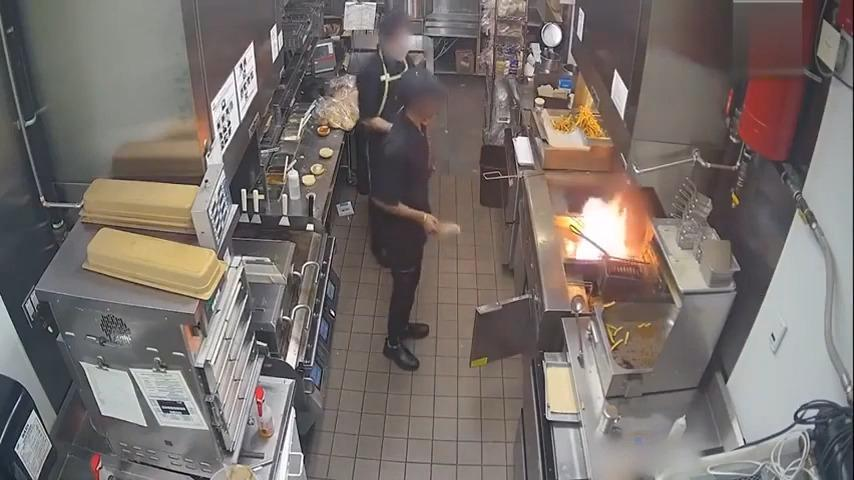fire: (565, 183, 645, 263)
